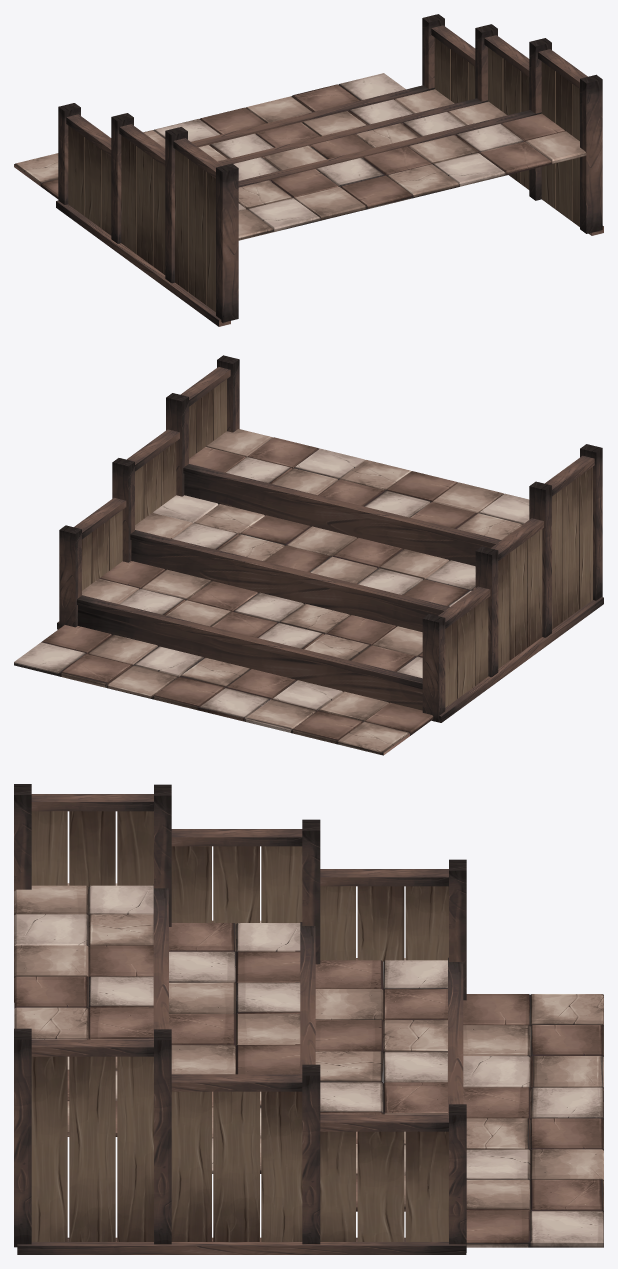
File: Floor_3_Steps_Straight_Walled_End.fbx
3 renders of one model, top to bottom at view 1: azimuth 30°, elevation 25°; view 2: azimuth 150°, elevation 25°; view 3: azimuth 270°, elevation 25°, orthographic. The views are drawn at different scales.
Visible parts, largest first — view 1: Stair_Wood_Wall9, Floor_Stairs_3_Steps; view 2: Floor_Stairs_3_Steps, Stair_Wood_Wall9; view 3: Stair_Wood_Wall9, Floor_Stairs_3_Steps.
Boxes of the visible parts, x1,y1,x2,y2 form: Stair_Wood_Wall9: (56, 14, 603, 326); Floor_Stairs_3_Steps: (14, 73, 586, 240); Floor_Stairs_3_Steps: (14, 429, 529, 755); Stair_Wood_Wall9: (57, 355, 603, 722); Stair_Wood_Wall9: (14, 784, 466, 1254); Floor_Stairs_3_Steps: (14, 883, 603, 1247).
Size of the model in its own units: 0.6238 by 0.24 by 0.6008.
